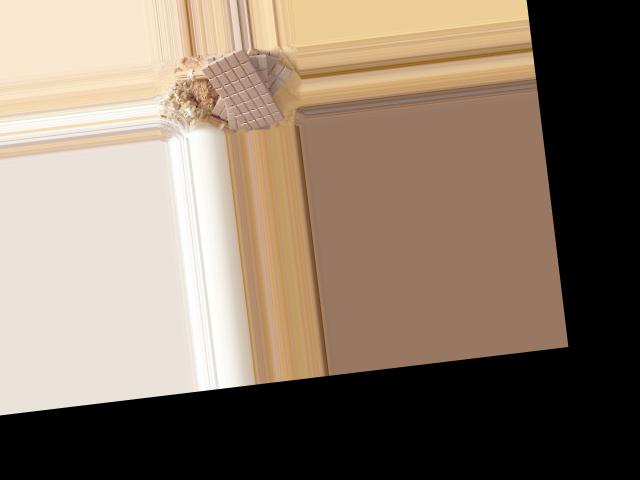chocolate: (195, 45, 285, 133)
